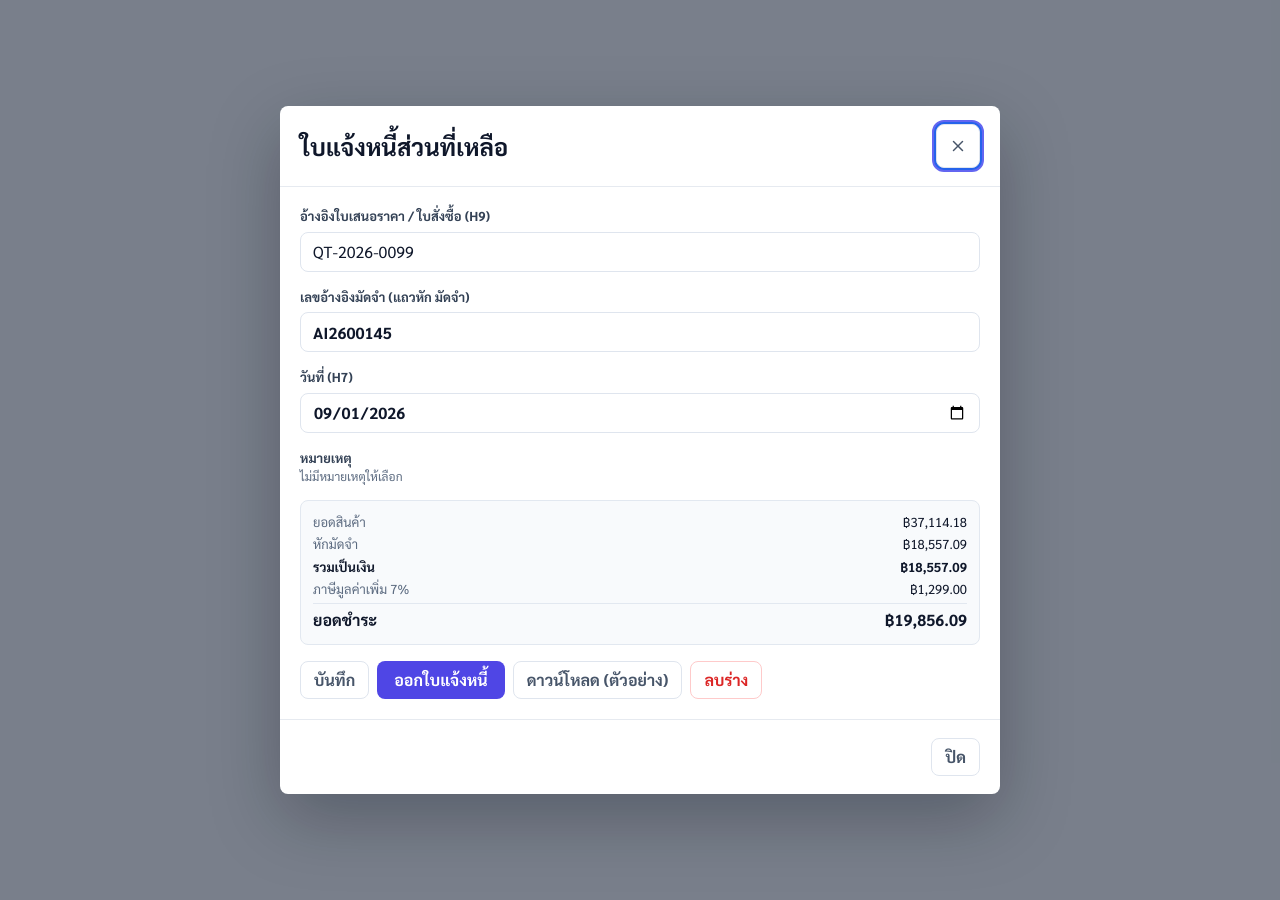
Test: RemainingInvoiceDialog — a live DRAFT exists › W4-07 confirm before issuing › a blockingReason on the fresh preview is shown and keeps confirm disabled
Expected: the element with test id "remaining-invoice-draft-editor" is shown, [300,207,980,699]
What coordinates should you click on to do the following:
click the button with test id "remaining-invoice-issue"
I would click on:
 (441, 680)
Its box is [377,661,505,699].
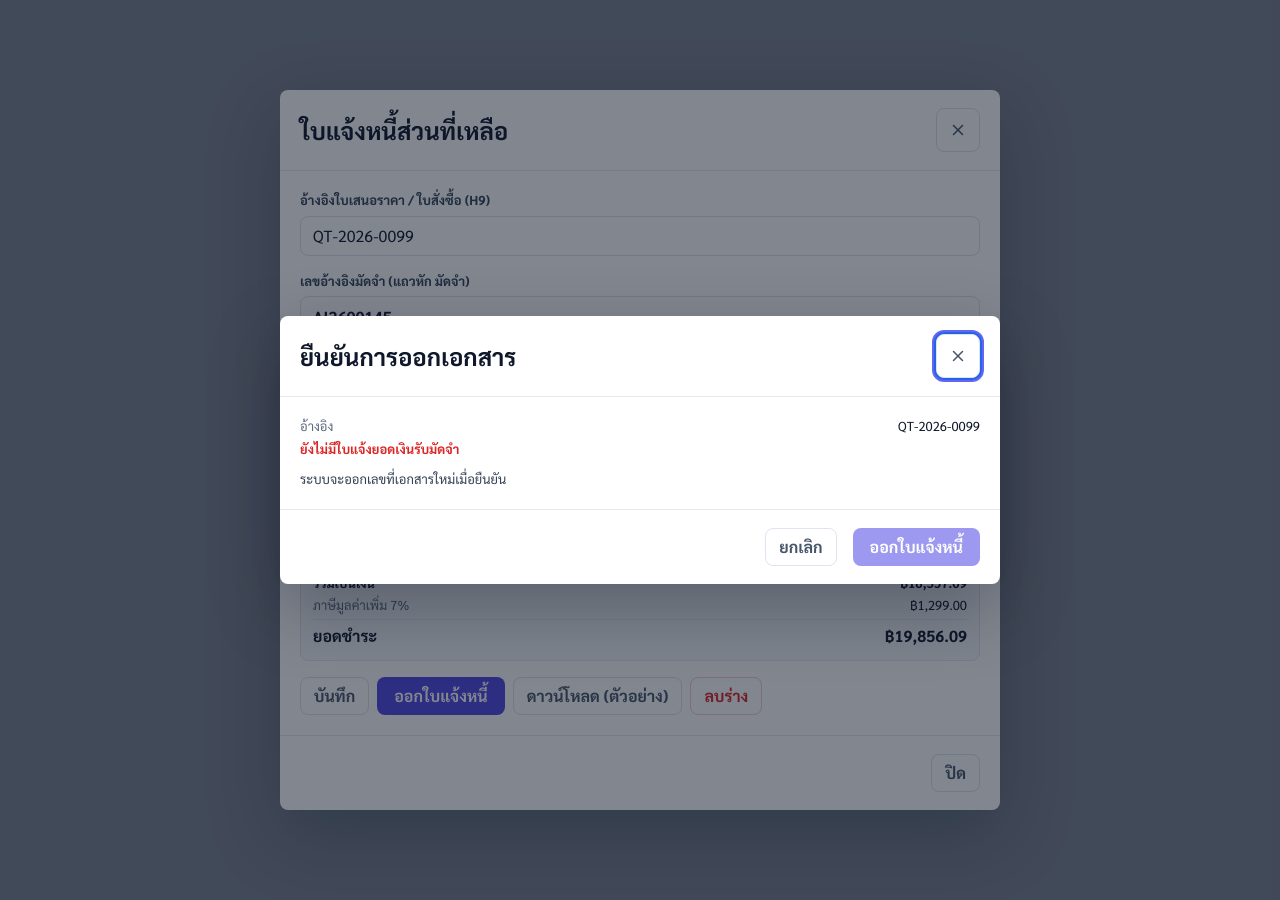
Expected: the dialog "ยืนยันการออกเอกสาร" does not show "฿19,856.09"
Now the dialog "ยืนยันการออกเอกสาร" shows "ยังไม่มีใบแจ้งยอดเงินรับมัดจำ", box [300,440,459,457]
Now the button "ออกใบแจ้งหนี้" is disabled, box [853,528,980,566]
